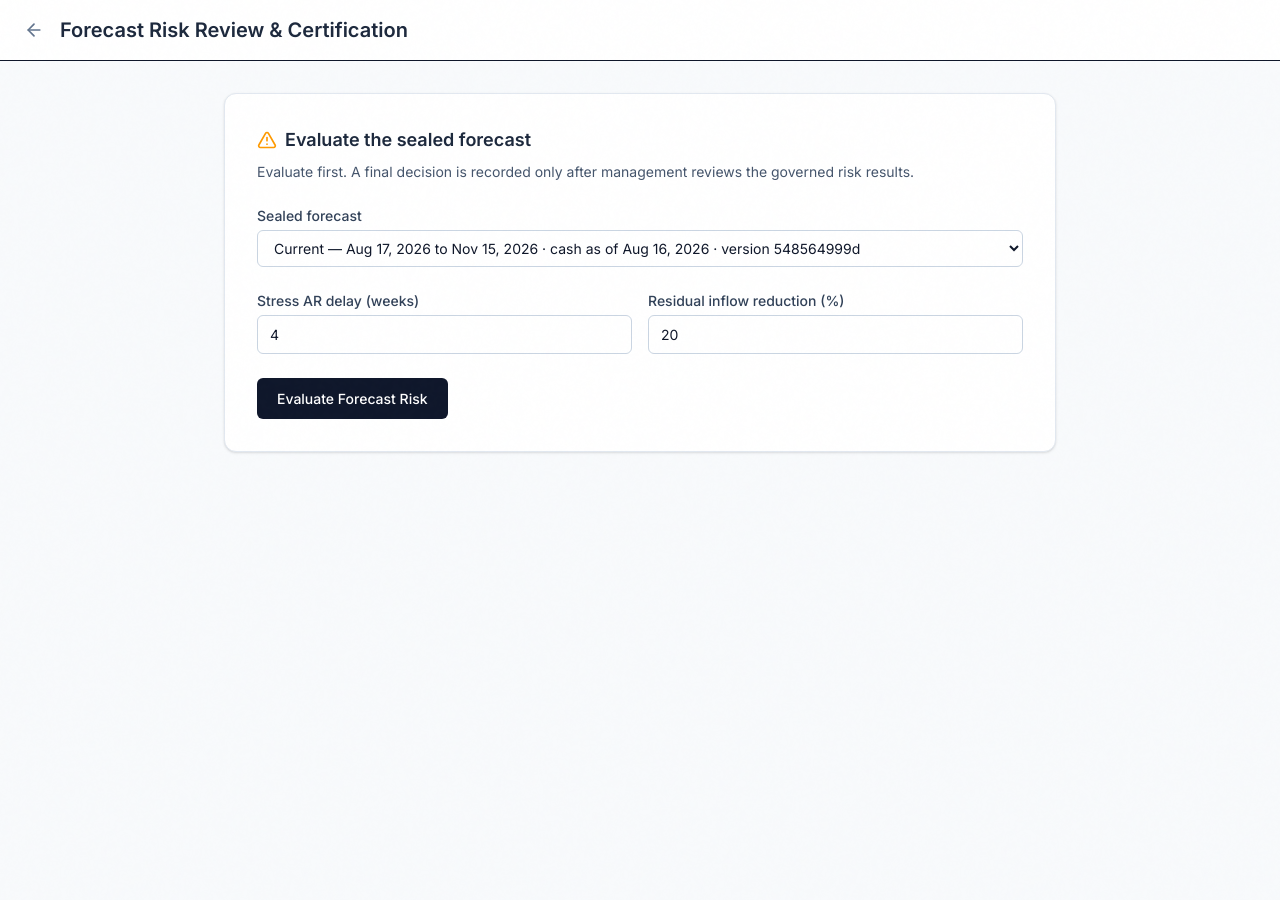
Scenario: Package 3 review-before-decision page › preselects the current sealed forecast and requires review before a final decision
This screenshot has width=1280, height=900.
Expected: the dropdown labelled "Sealed forecast" shows "Current — Aug 17, 2026 to Nov 15, 2026 · cash as of Aug 16, 2026 · version 54856", [257,230,1023,267]
Expected: the button "Certify for Decision Use" is not shown
Click the button "Evaluate Forecast Risk" at point(352, 398), box [257,378,448,419]
(page scrolled)
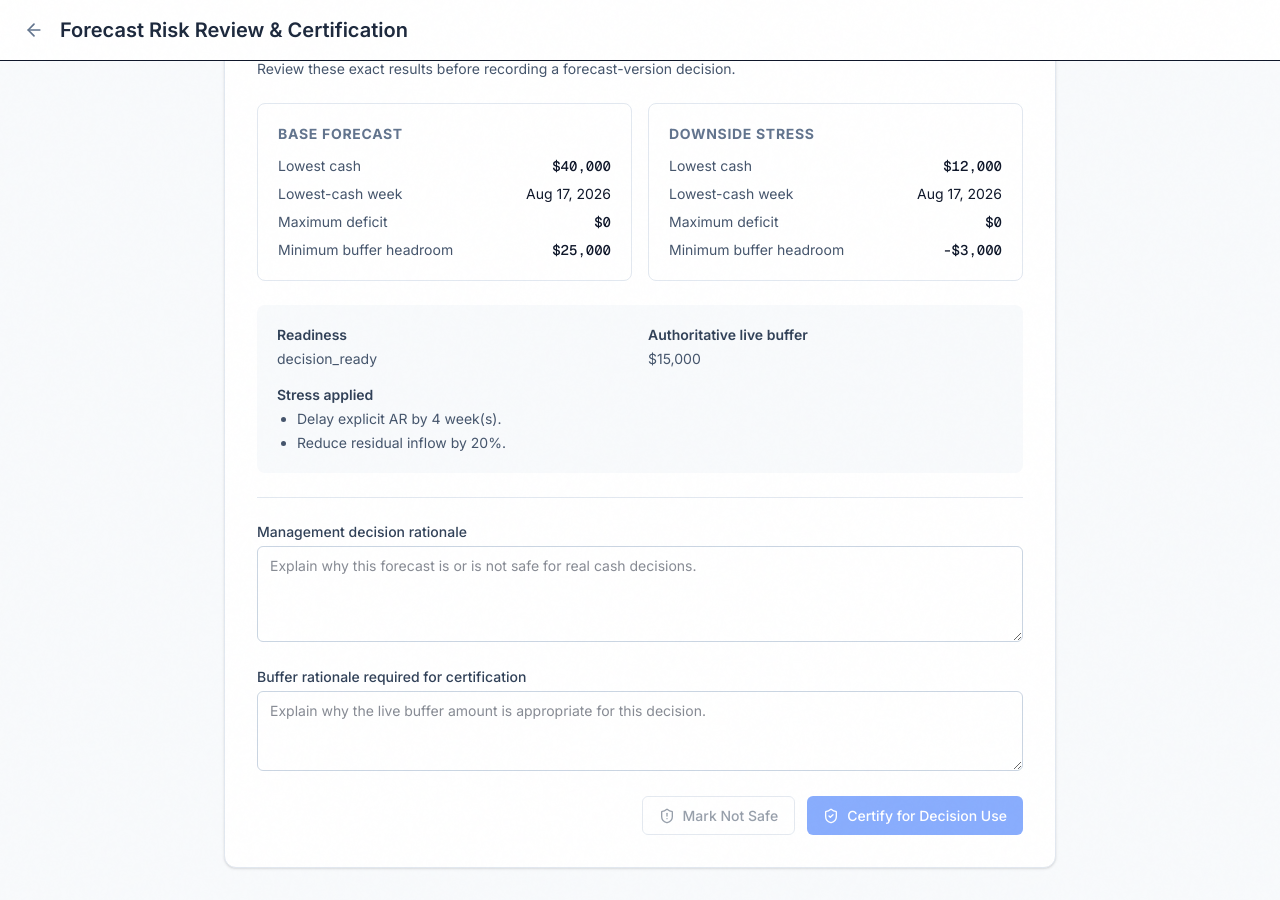
Now the text "Authoritative live buffer" is shown, box [648,326,808,343]
Now the text "$15,000" is shown, box [648,350,701,367]
Now the button "Certify for Decision Use" is shown, box [807,796,1023,835]
Replace the text in the text box labelled "Management decision rationale" with "Reviewed the exact downside path." at point(640, 594), box [257,546,1023,642]
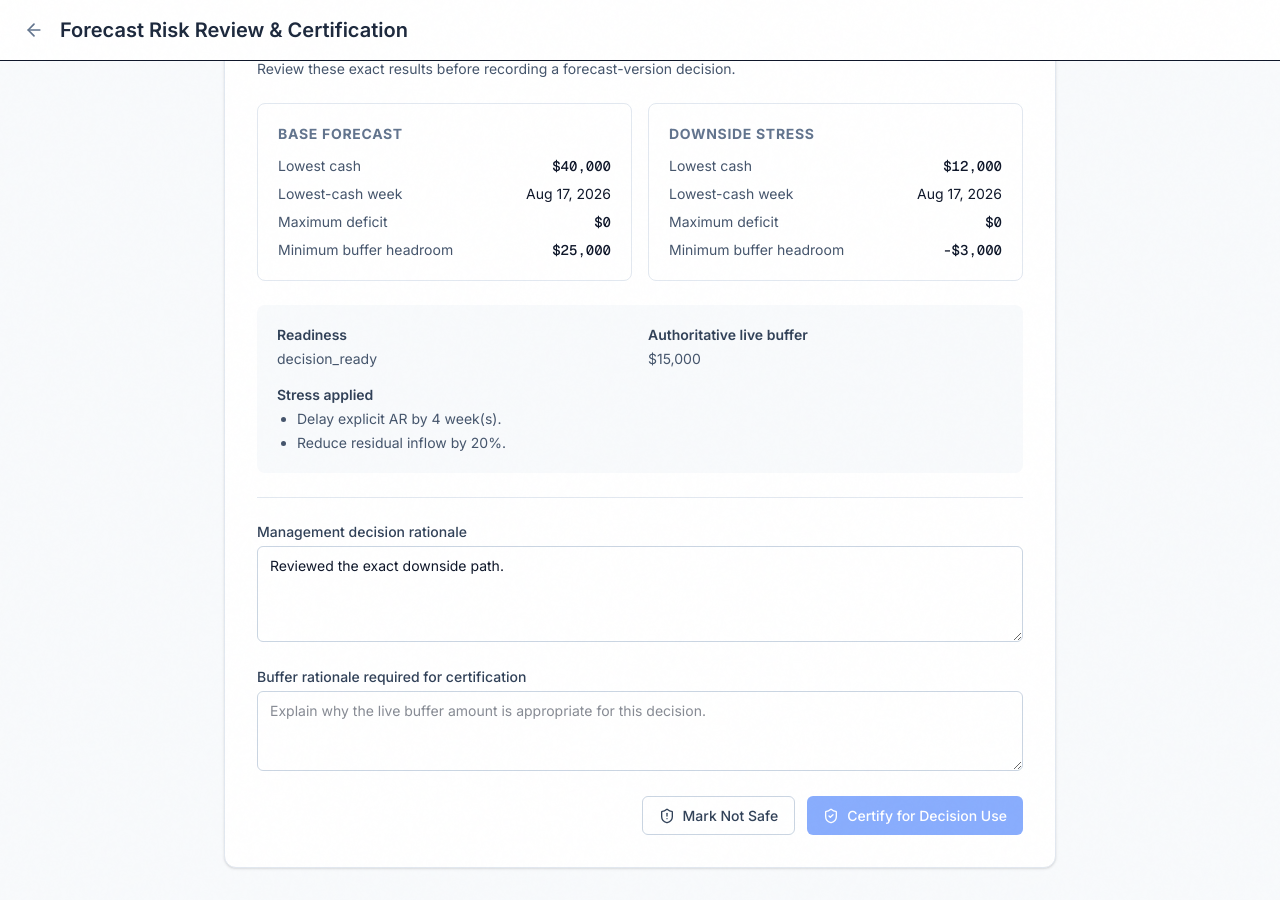
Replace the text in the text box labelled "Buffer rationale required for certification" with "The operating buffer reflects current obligations." at point(640, 731), box [257,691,1023,771]
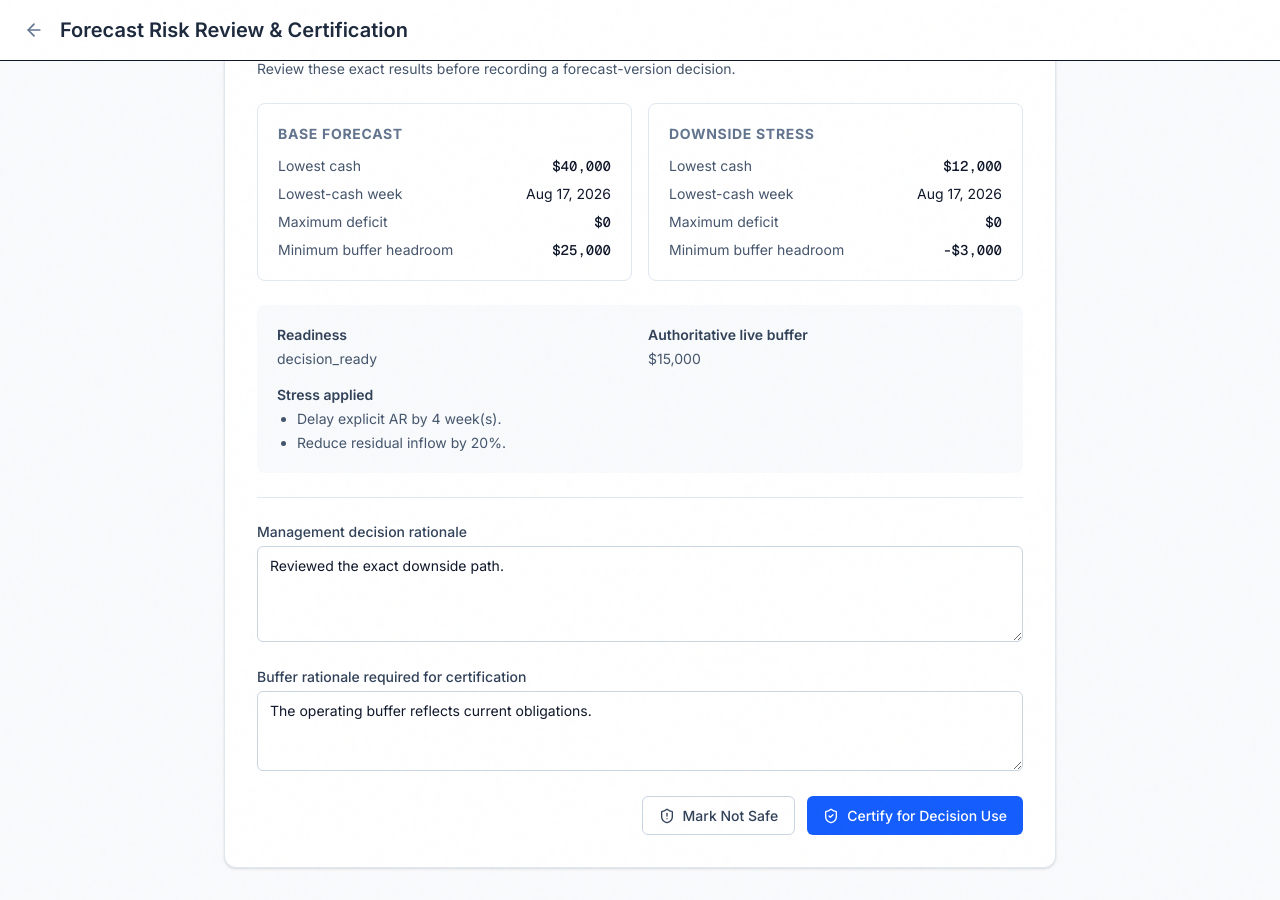
Click the button "Certify for Decision Use" at point(915, 816), box [807,796,1023,835]
(page scrolled)
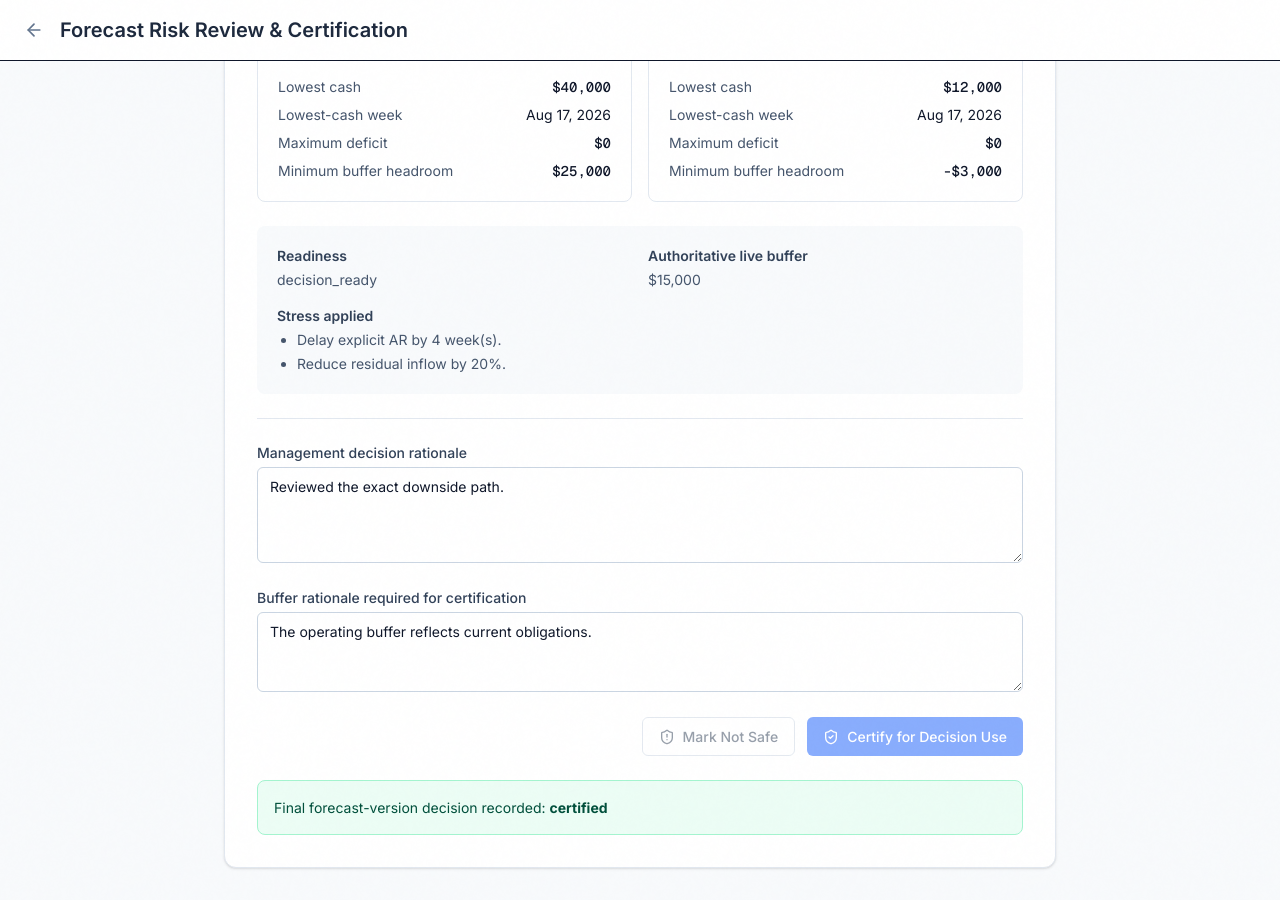
Now the text "Final forecast-version decision recorded: certified" is shown, box [257,780,1023,835]
